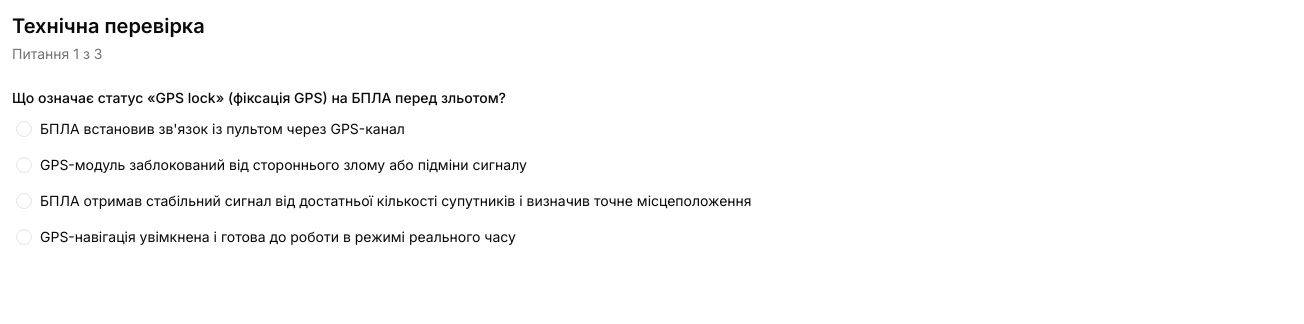
Test: TechVerificationBlock — with drone-piloting declared › advances to question 2 after clicking Наступне питання
Click the 1st radio button.
click(24, 129)  # box [16, 121, 32, 137]
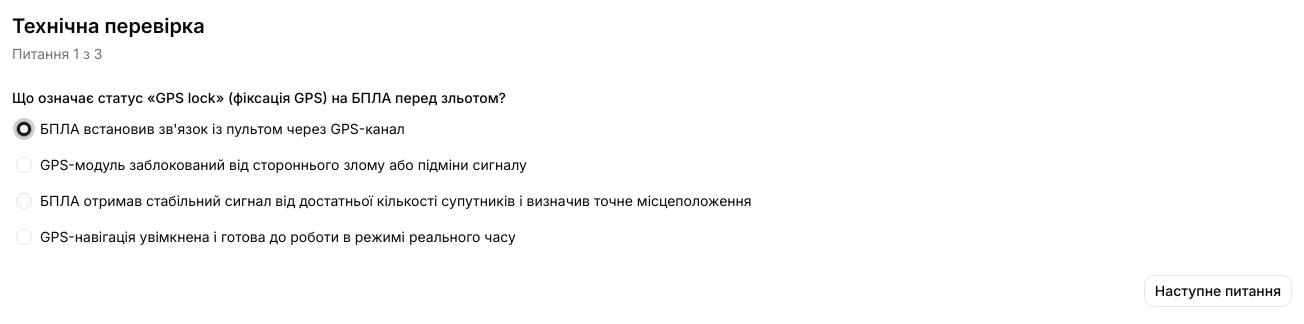
Click the button "Наступне питання".
click(1218, 291)  # box [1144, 275, 1292, 307]
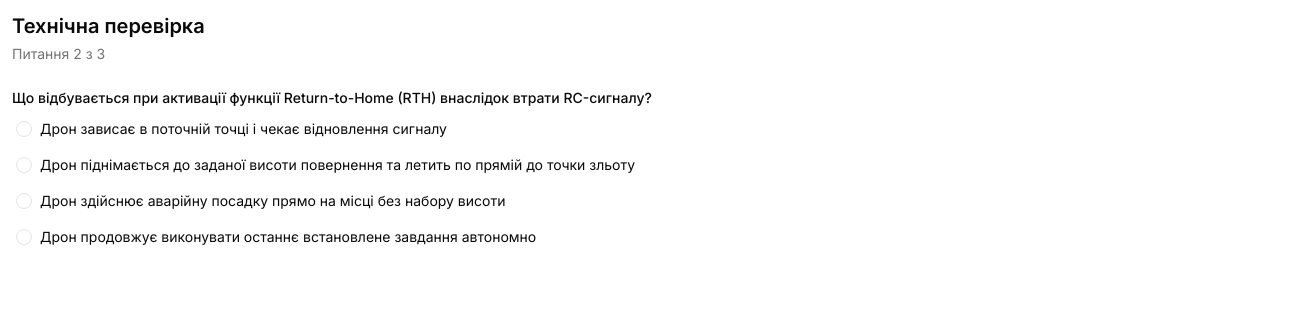
expect the text "Питання 2 з 3" is shown: met, box [12, 45, 105, 62]
